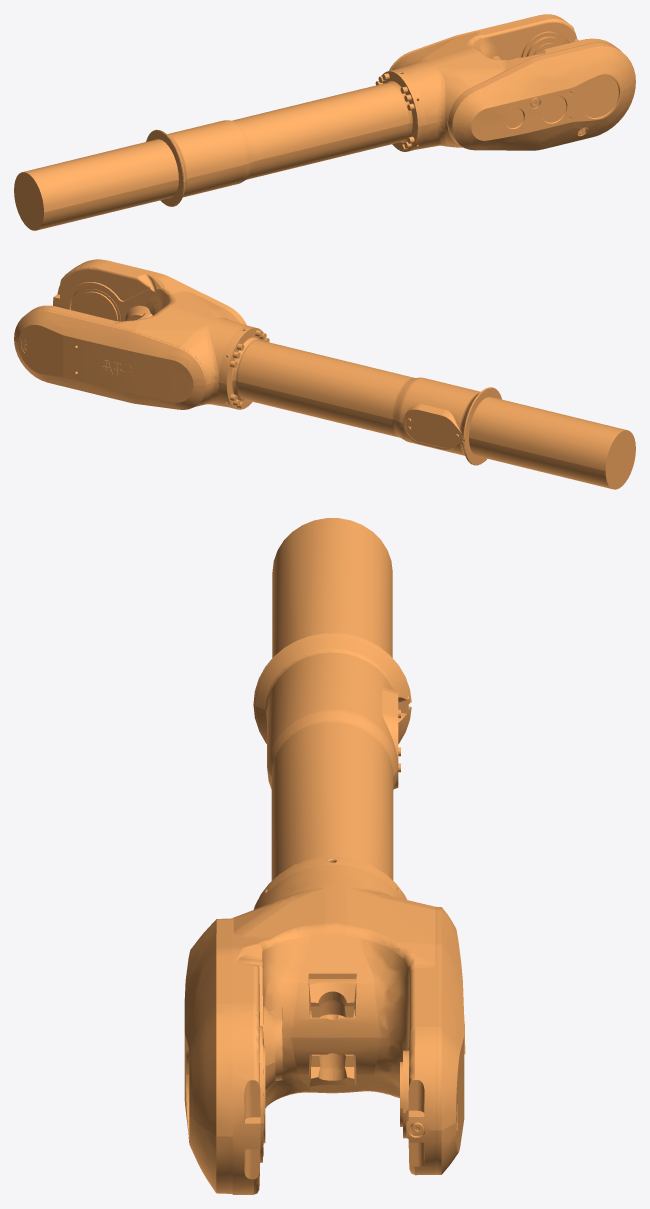
3 renders of one model, top to bottom at view 1: azimuth 30°, elevation 25°; view 2: azimuth 150°, elevation 25°; view 3: azimuth 270°, elevation 25°, orthographic. The views are drawn at different scales.
Visible parts, largest first — view 1: mesh_0; view 2: mesh_0; view 3: mesh_0.
Boxes of the visible parts, x1,y1,x2,y2 form: mesh_0: (14, 14, 635, 230); mesh_0: (14, 259, 635, 489); mesh_0: (184, 518, 465, 1194).
Size of the model in its own units: 1.89 by 0.284 by 0.3965.
